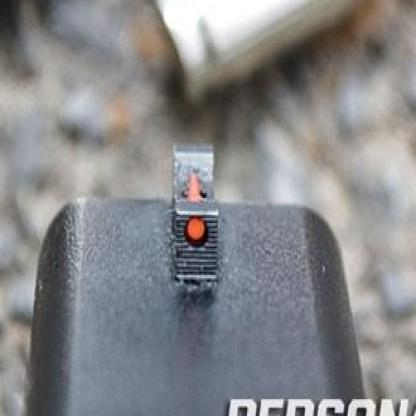gun: (9, 131, 411, 414)
